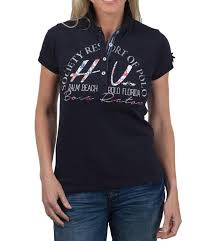C_polo shirt: (44, 23, 179, 188)
